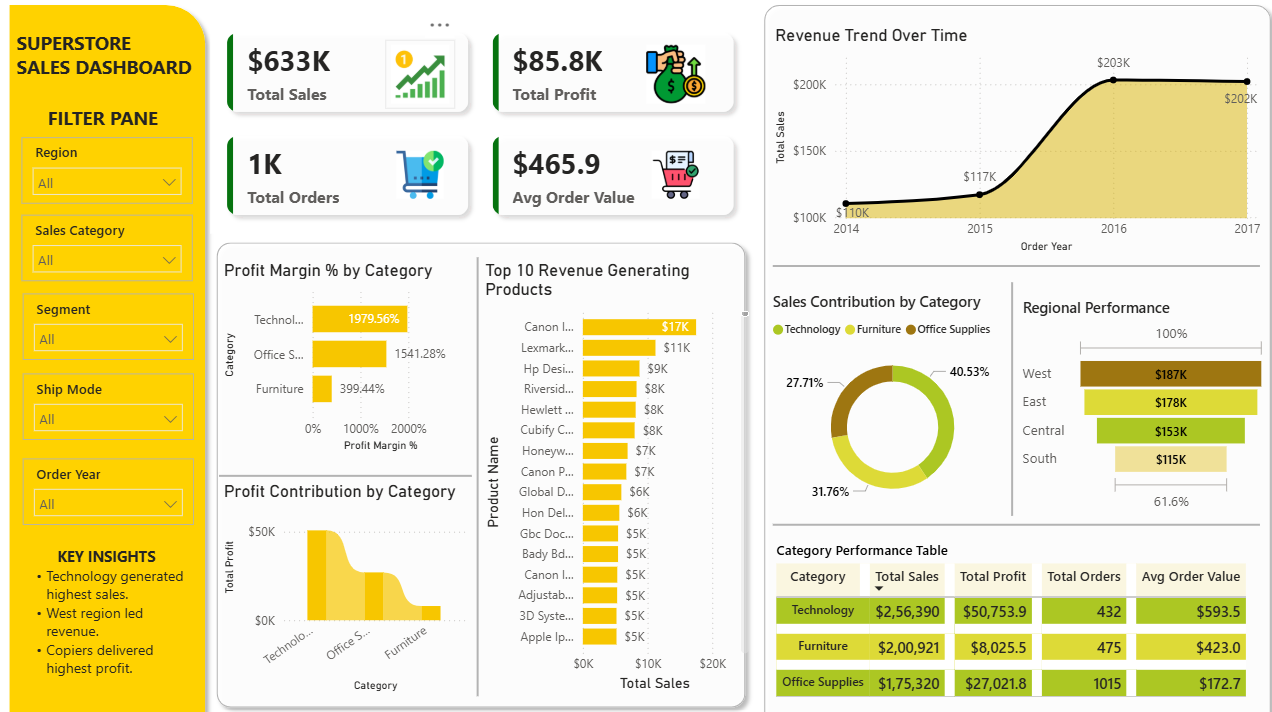

This screenshot's page, from the dashboard's own definition file:
{"tool":"powerbi","page":{"name":"Page 1","canvas":[1280,720],"ordinal":0},"visuals":[{"type":"shape","box":[755.7,0,524.6,771.6],"z":0},{"type":"shape","box":[209.1,237.2,546.6,483],"z":1000},{"type":"shape","box":[1.2,0,214,799.7],"z":2000},{"type":"textbox","box":[12.2,28.1,201.8,67.3],"z":3000},{"type":"textbox","box":[44,103.9,139.4,36.7],"z":4000},{"type":"slicer","fields":{"Values":["Sales_Data.Region"]},"box":[22,140.6,171.2,66],"z":5000},{"type":"slicer","fields":{"Values":["Sales_Data.Sales Category"]},"box":[22,218.9,171.2,66],"z":6000},{"type":"slicer","fields":{"Values":["Sales_Data.Segment"]},"box":[23.2,297.1,171.2,66],"z":7000},{"type":"slicer","fields":{"Values":["Sales_Data.Ship Mode"]},"box":[23.2,377.9,171.2,66],"z":8000},{"type":"slicer","fields":{"Values":["Sales_Data.Order Year"]},"box":[23.2,462.2,171.2,66],"z":9000},{"type":"cardVisual","fields":{"Data":["Sales_Data.Total Sales","Sales_Data.Total Profit","Sales_Data.Total Orders","Sales_Data.Avg Order Value"]},"box":[211.6,19.6,541.7,217.7],"z":10000},{"type":"clusteredBarChart","title":"Profit Margin % by Category","fields":{"Category":["Sales_Data.Category"],"Y":["Sales_Data.Profit Margin %"]},"box":[220.1,264.1,253.1,196.9],"z":11000},{"type":"clusteredBarChart","title":"Top 10 Revenue Generating Products","fields":{"Category":["Sales_Data.Product Name"],"Y":["Sales_Data.Total Sales"]},"box":[481.8,264.1,273.9,436.6],"z":12000},{"type":"shape","box":[473.2,261.7,9.8,439],"z":13000},{"type":"shape","box":[220.1,473.2,253.1,12.2],"z":14000},{"type":"areaChart","title":"Revenue Trend Over Time","fields":{"Category":["Sales_Data.Order Year"],"Y":["Sales_Data.Total Sales"]},"box":[771.2,28.8,495,232.5],"z":15000},{"type":"donutChart","title":"Sales Contribution by Category","fields":{"Category":["Sales_Data.Category"],"Y":["Sales_Data.Total Sales"]},"box":[768.8,295,250,225],"z":16000},{"type":"funnel","title":"Regional Performance","fields":{"Category":["Sales_Data.Region"],"Y":["Sales_Data.Total Sales"]},"box":[1018.8,301.2,253.8,218.8],"z":17000},{"type":"pivotTable","title":"Category Performance Table","fields":{"Rows":["Sales_Data.Category"],"Values":["Sales_Data.Total Sales","Sales_Data.Total Profit","Sales_Data.Total Orders","Sales_Data.Avg Order Value"]},"box":[772.5,545,497.5,175],"z":18000},{"type":"shape","box":[773.8,261.2,487.5,17.5],"z":19000},{"type":"shape","box":[1007.5,286.2,11.2,233.8],"z":20000},{"type":"shape","box":[773.8,520,487.5,17.5],"z":21000},{"type":"ribbonChart","title":"Profit Contribution by Category","fields":{"Y":["Sales_Data.Total Profit"],"Category":["Sales_Data.Category"]},"box":[220.1,485.5,253.1,215.2],"z":22000},{"type":"textbox","box":[20.8,545.4,172.4,174.9],"z":23000},{"type":"image","box":[386.2,43.8,70,68.8],"z":24000},{"type":"image","box":[640,43.8,73.8,68.8],"z":25000},{"type":"image","box":[386.2,150,70,57.5],"z":26000},{"type":"image","box":[640,150,73.8,57.5],"z":27000}]}

Visuals, with their boxes in screenshot pixels (x1, y1, x2, y2), scaled from the page's 1280x720 canvas onto the 1272x712 screenshot:
shape: rect(751, 0, 1271, 711)
shape: rect(208, 235, 751, 711)
shape: rect(1, 0, 214, 711)
textbox: rect(12, 28, 213, 94)
textbox: rect(44, 103, 182, 139)
slicer - Sales_Data.Region: rect(22, 139, 192, 204)
slicer - Sales_Data.Sales Category: rect(22, 216, 192, 282)
slicer - Sales_Data.Segment: rect(23, 294, 193, 359)
slicer - Sales_Data.Ship Mode: rect(23, 374, 193, 439)
slicer - Sales_Data.Order Year: rect(23, 457, 193, 522)
cardVisual - Sales_Data.Total Sales x Sales_Data.Total Profit: rect(210, 19, 749, 235)
"Profit Margin % by Category" clusteredBarChart: rect(219, 261, 470, 456)
"Top 10 Revenue Generating Products" clusteredBarChart: rect(479, 261, 751, 693)
shape: rect(470, 259, 480, 693)
shape: rect(219, 468, 470, 480)
"Revenue Trend Over Time" areaChart: rect(766, 28, 1258, 258)
"Sales Contribution by Category" donutChart: rect(764, 292, 1012, 514)
"Regional Performance" funnel: rect(1012, 298, 1265, 514)
"Category Performance Table" pivotTable: rect(768, 539, 1262, 711)
shape: rect(769, 258, 1253, 276)
shape: rect(1001, 283, 1012, 514)
shape: rect(769, 514, 1253, 532)
"Profit Contribution by Category" ribbonChart: rect(219, 480, 470, 693)
textbox: rect(21, 539, 192, 711)
image: rect(384, 43, 453, 111)
image: rect(636, 43, 709, 111)
image: rect(384, 148, 453, 205)
image: rect(636, 148, 709, 205)
